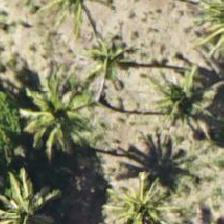coconut_tree: (66, 17, 156, 107), (82, 170, 172, 223), (0, 163, 65, 223)
